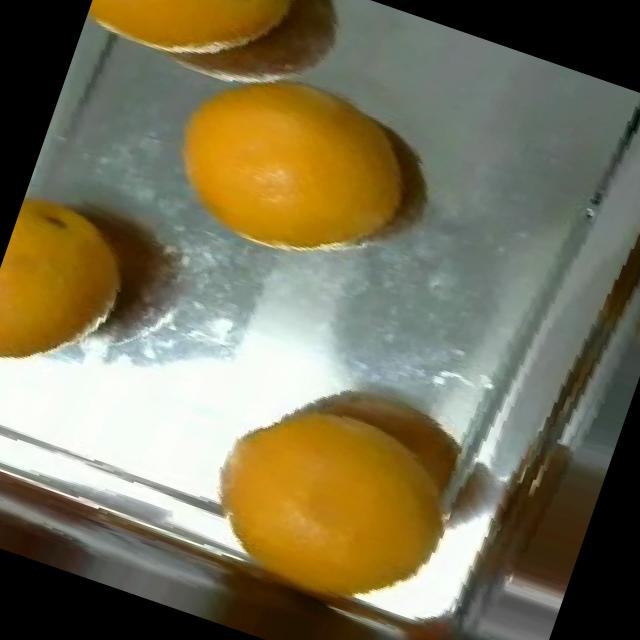Fruit: (0, 176, 159, 402)
